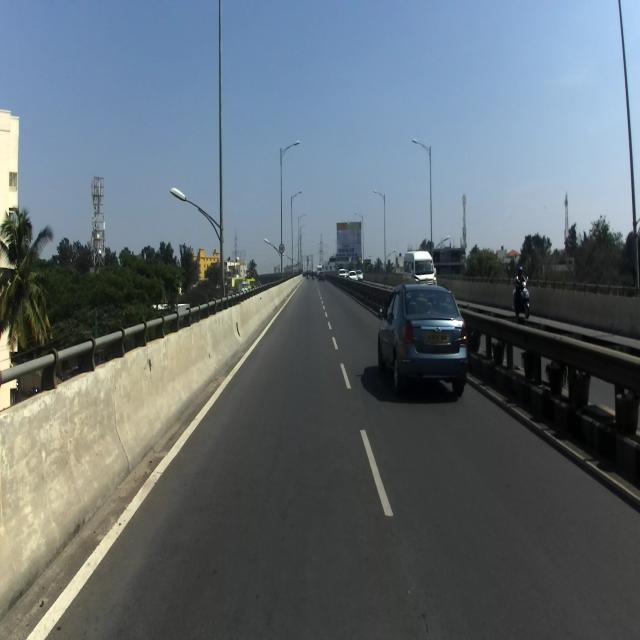car ahead at: (377, 276, 474, 400)
